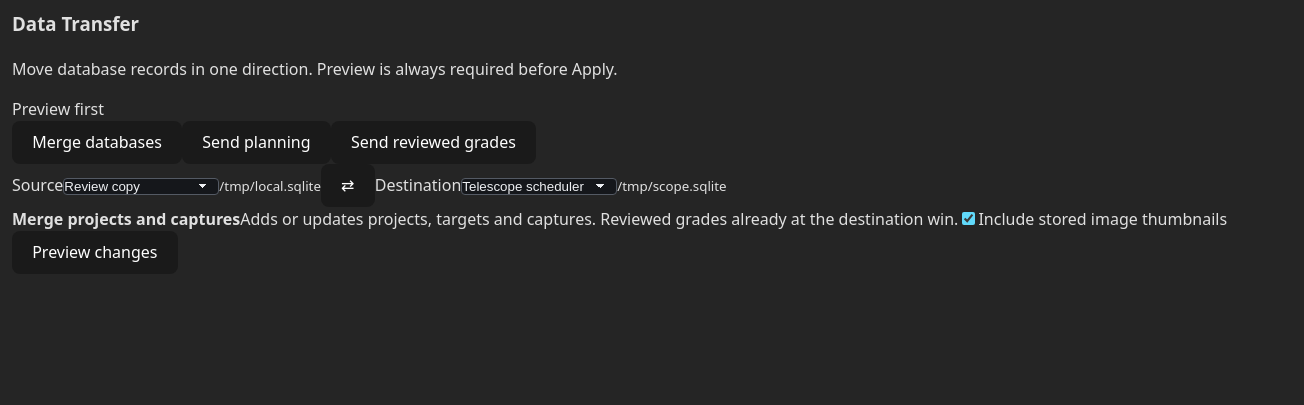
Test: SchedulerSyncControls › keeps the preview when apply refuses a changed destination
The width and height of the screenshot is (1304, 405).
Step 1. Click the button "Send planning" → (256, 142), box top-left (182, 120), bottom-right (331, 164)
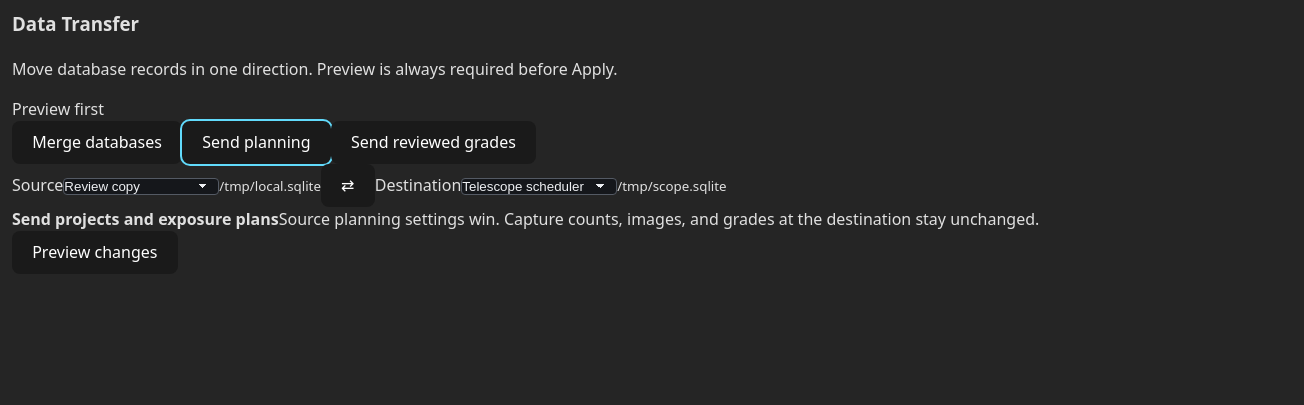
Step 2. Click the button "Preview changes" → (95, 252), box top-left (12, 231), bottom-right (178, 274)
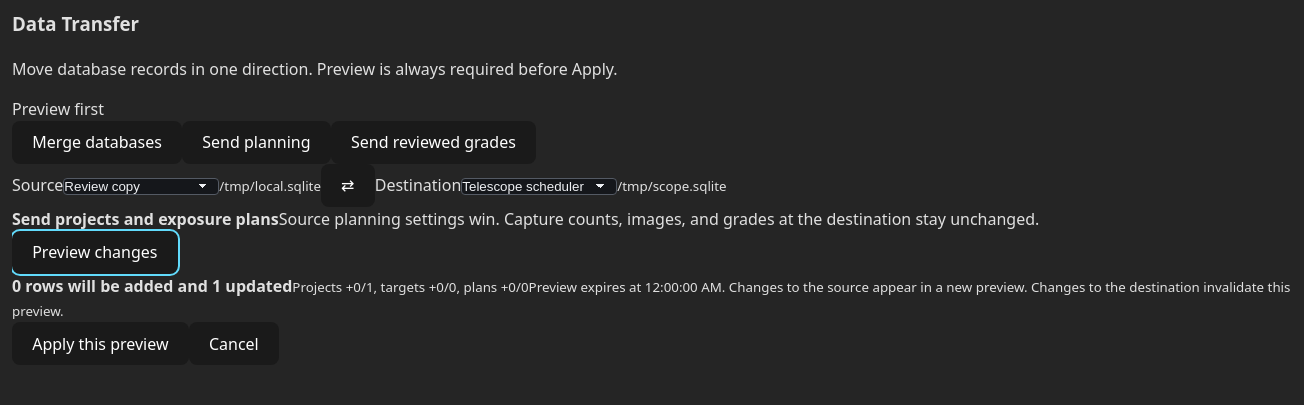
Step 3. Click the button "Apply this preview" → (100, 344), box top-left (12, 322), bottom-right (189, 365)
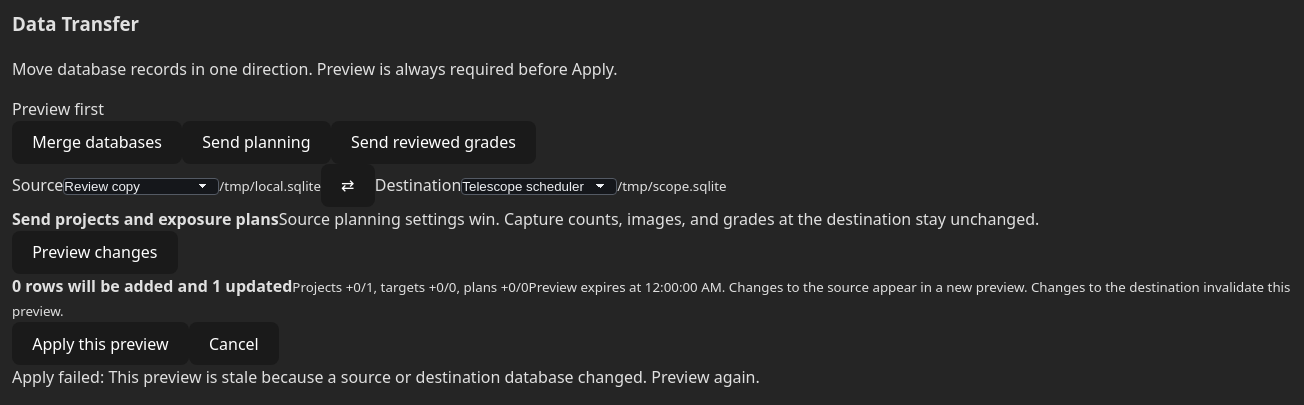
Expected: the button "Apply this preview" is shown, top-left (12, 322), bottom-right (189, 365)
Expected: the text "Apply failed: This preview is stale" is shown, top-left (12, 366), bottom-right (760, 388)
